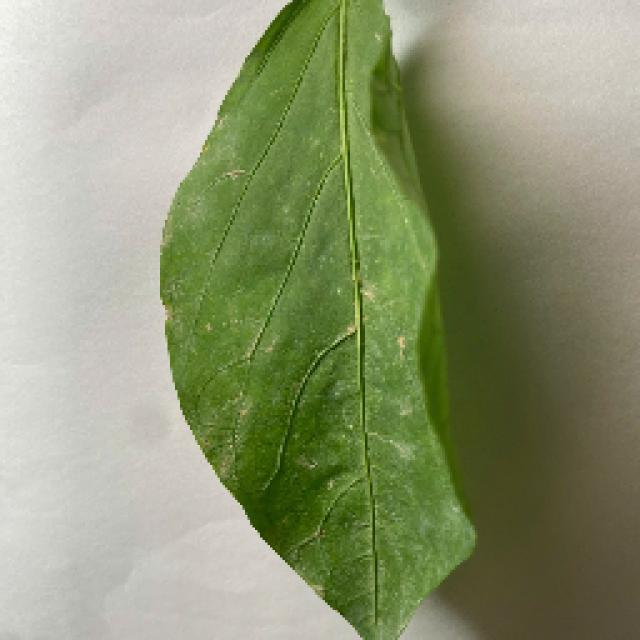Leaf: (155, 3, 480, 640)
